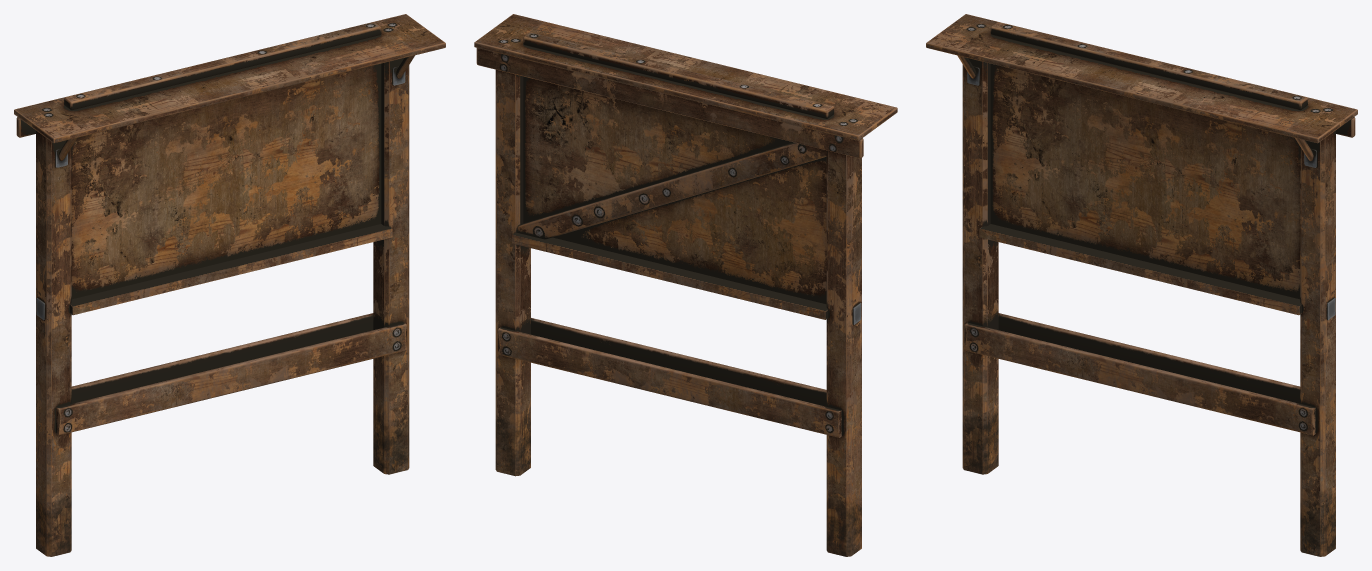
The model's file is notice_board-a9230bcf.glb.
The picture shows the model from 3 angles, left to right: view 1: azimuth 30°, elevation 25°; view 2: azimuth 150°, elevation 25°; view 3: azimuth 330°, elevation 25°; orthographic projection.
Visible parts, largest first — view 1: Symmetry_5; view 2: Symmetry_5; view 3: Symmetry_5.
Part boxes in pixels (<box>): Symmetry_5: <box>14,14,445,556</box>; Symmetry_5: <box>474,14,897,556</box>; Symmetry_5: <box>926,14,1357,556</box>.
Size of the model in its own units: 2.35 by 2.55 by 0.4145.
Materials: 1 (1 with a texture image).
